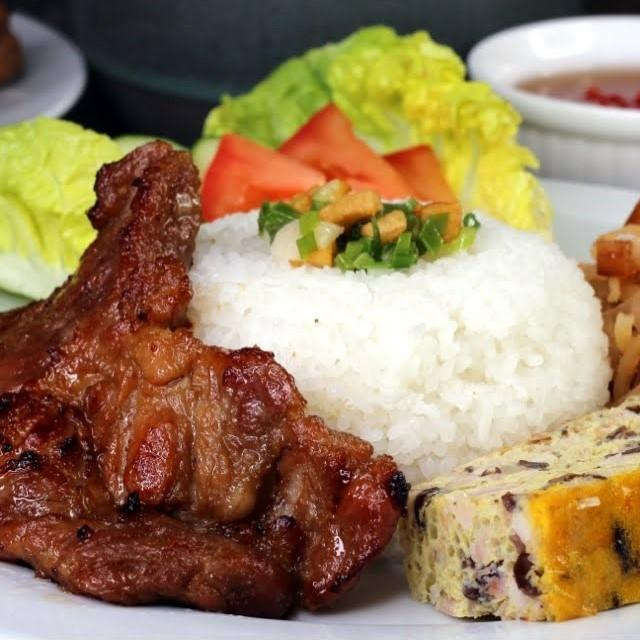cha: (383, 377, 640, 624)
com: (165, 183, 616, 492)
com suon bi cha: (0, 53, 640, 640)
suon: (0, 134, 414, 623)
